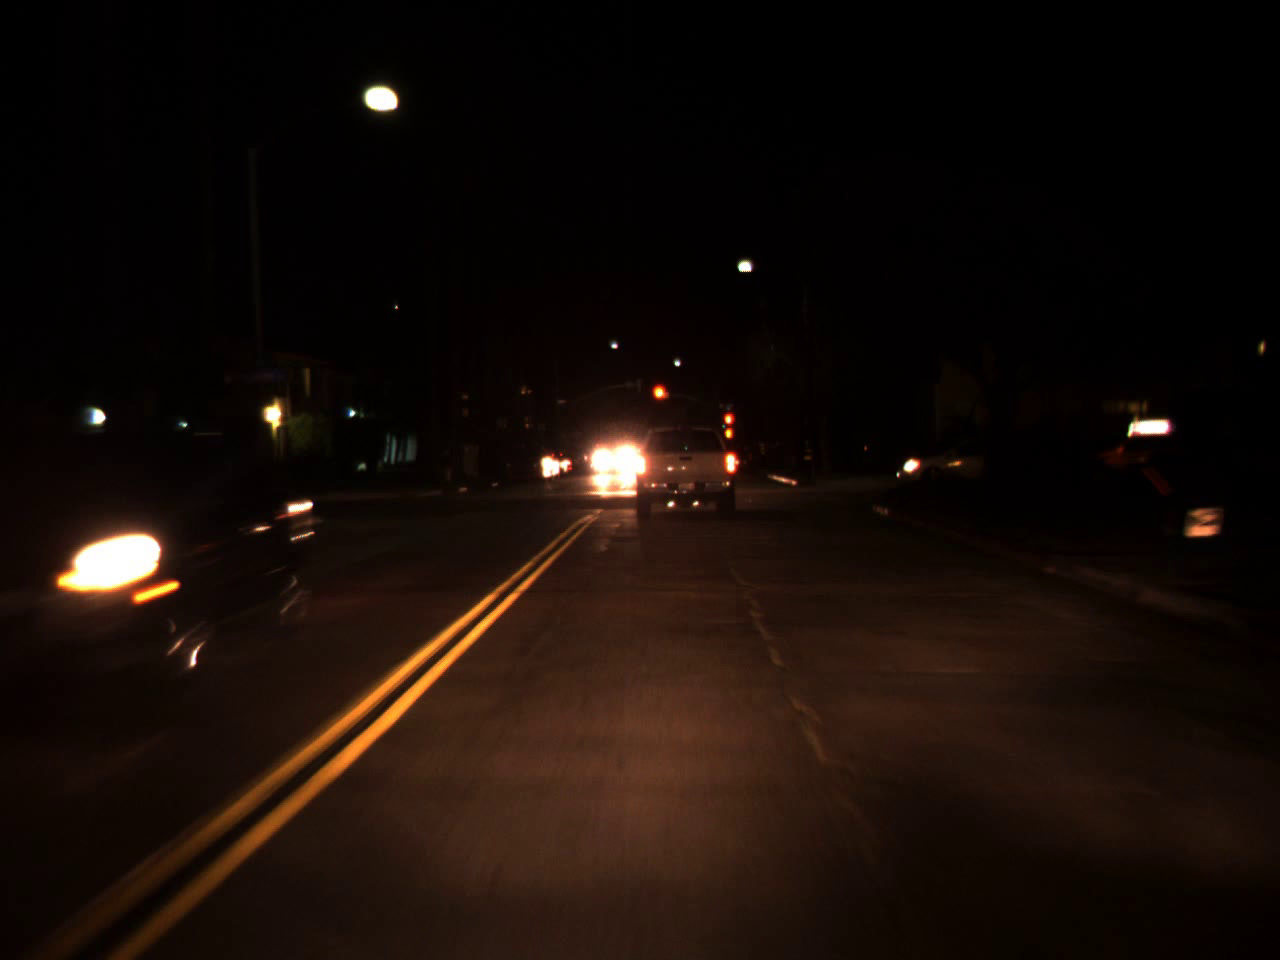stop: (651, 383, 669, 415), (723, 411, 735, 438)
